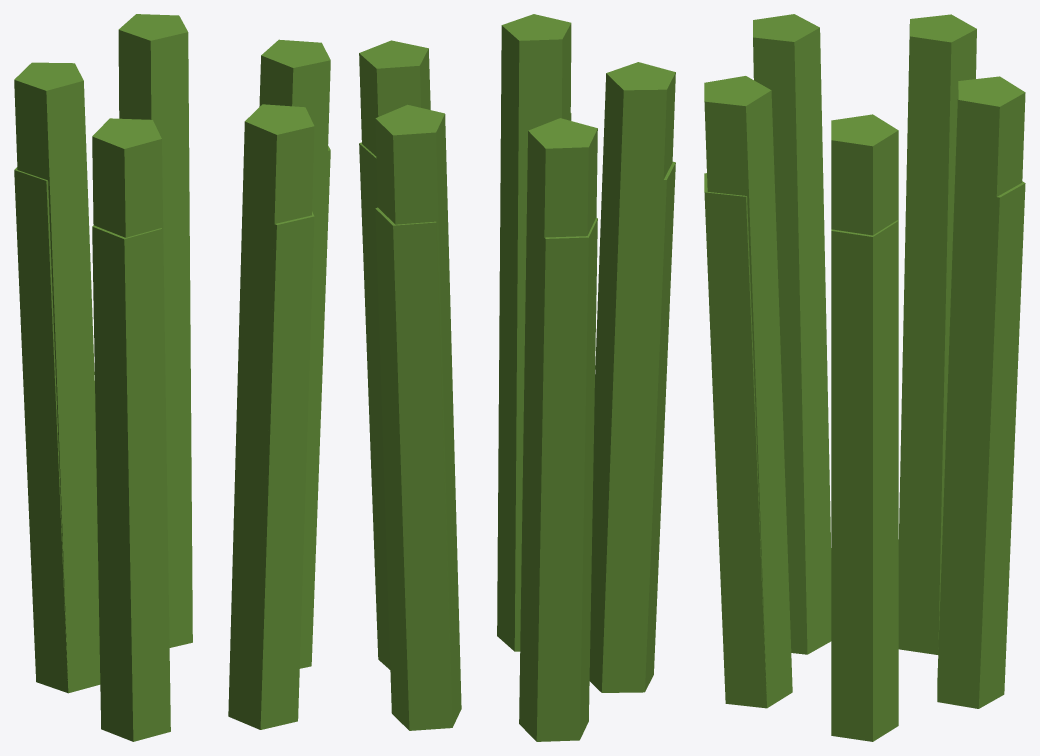
File: Crop_Veg_Asparagus.fbx
3 views of the same model, side by side, from view 1: azimuth 30°, elevation 25°; view 2: azimuth 150°, elevation 25°; view 3: azimuth 270°, elevation 25° (orthographic).
Parts seen in each view (by area): view 1: Crop_Veg_Asparagus__S4, Crop_Veg_Asparagus__S3; view 2: Crop_Veg_Asparagus__S3, Crop_Veg_Asparagus__S4; view 3: Crop_Veg_Asparagus__S4, Crop_Veg_Asparagus__S3.
Boxes of the visible parts, x1,y1,x2,y2 form: Crop_Veg_Asparagus__S4: [14, 14, 330, 741]; Crop_Veg_Asparagus__S3: [14, 145, 330, 740]; Crop_Veg_Asparagus__S3: [359, 113, 675, 741]; Crop_Veg_Asparagus__S4: [359, 14, 675, 741]; Crop_Veg_Asparagus__S4: [704, 14, 1025, 741]; Crop_Veg_Asparagus__S3: [704, 130, 1025, 740].
Size of the model in its own units: 0.0421 by 0.0903 by 0.0433.
